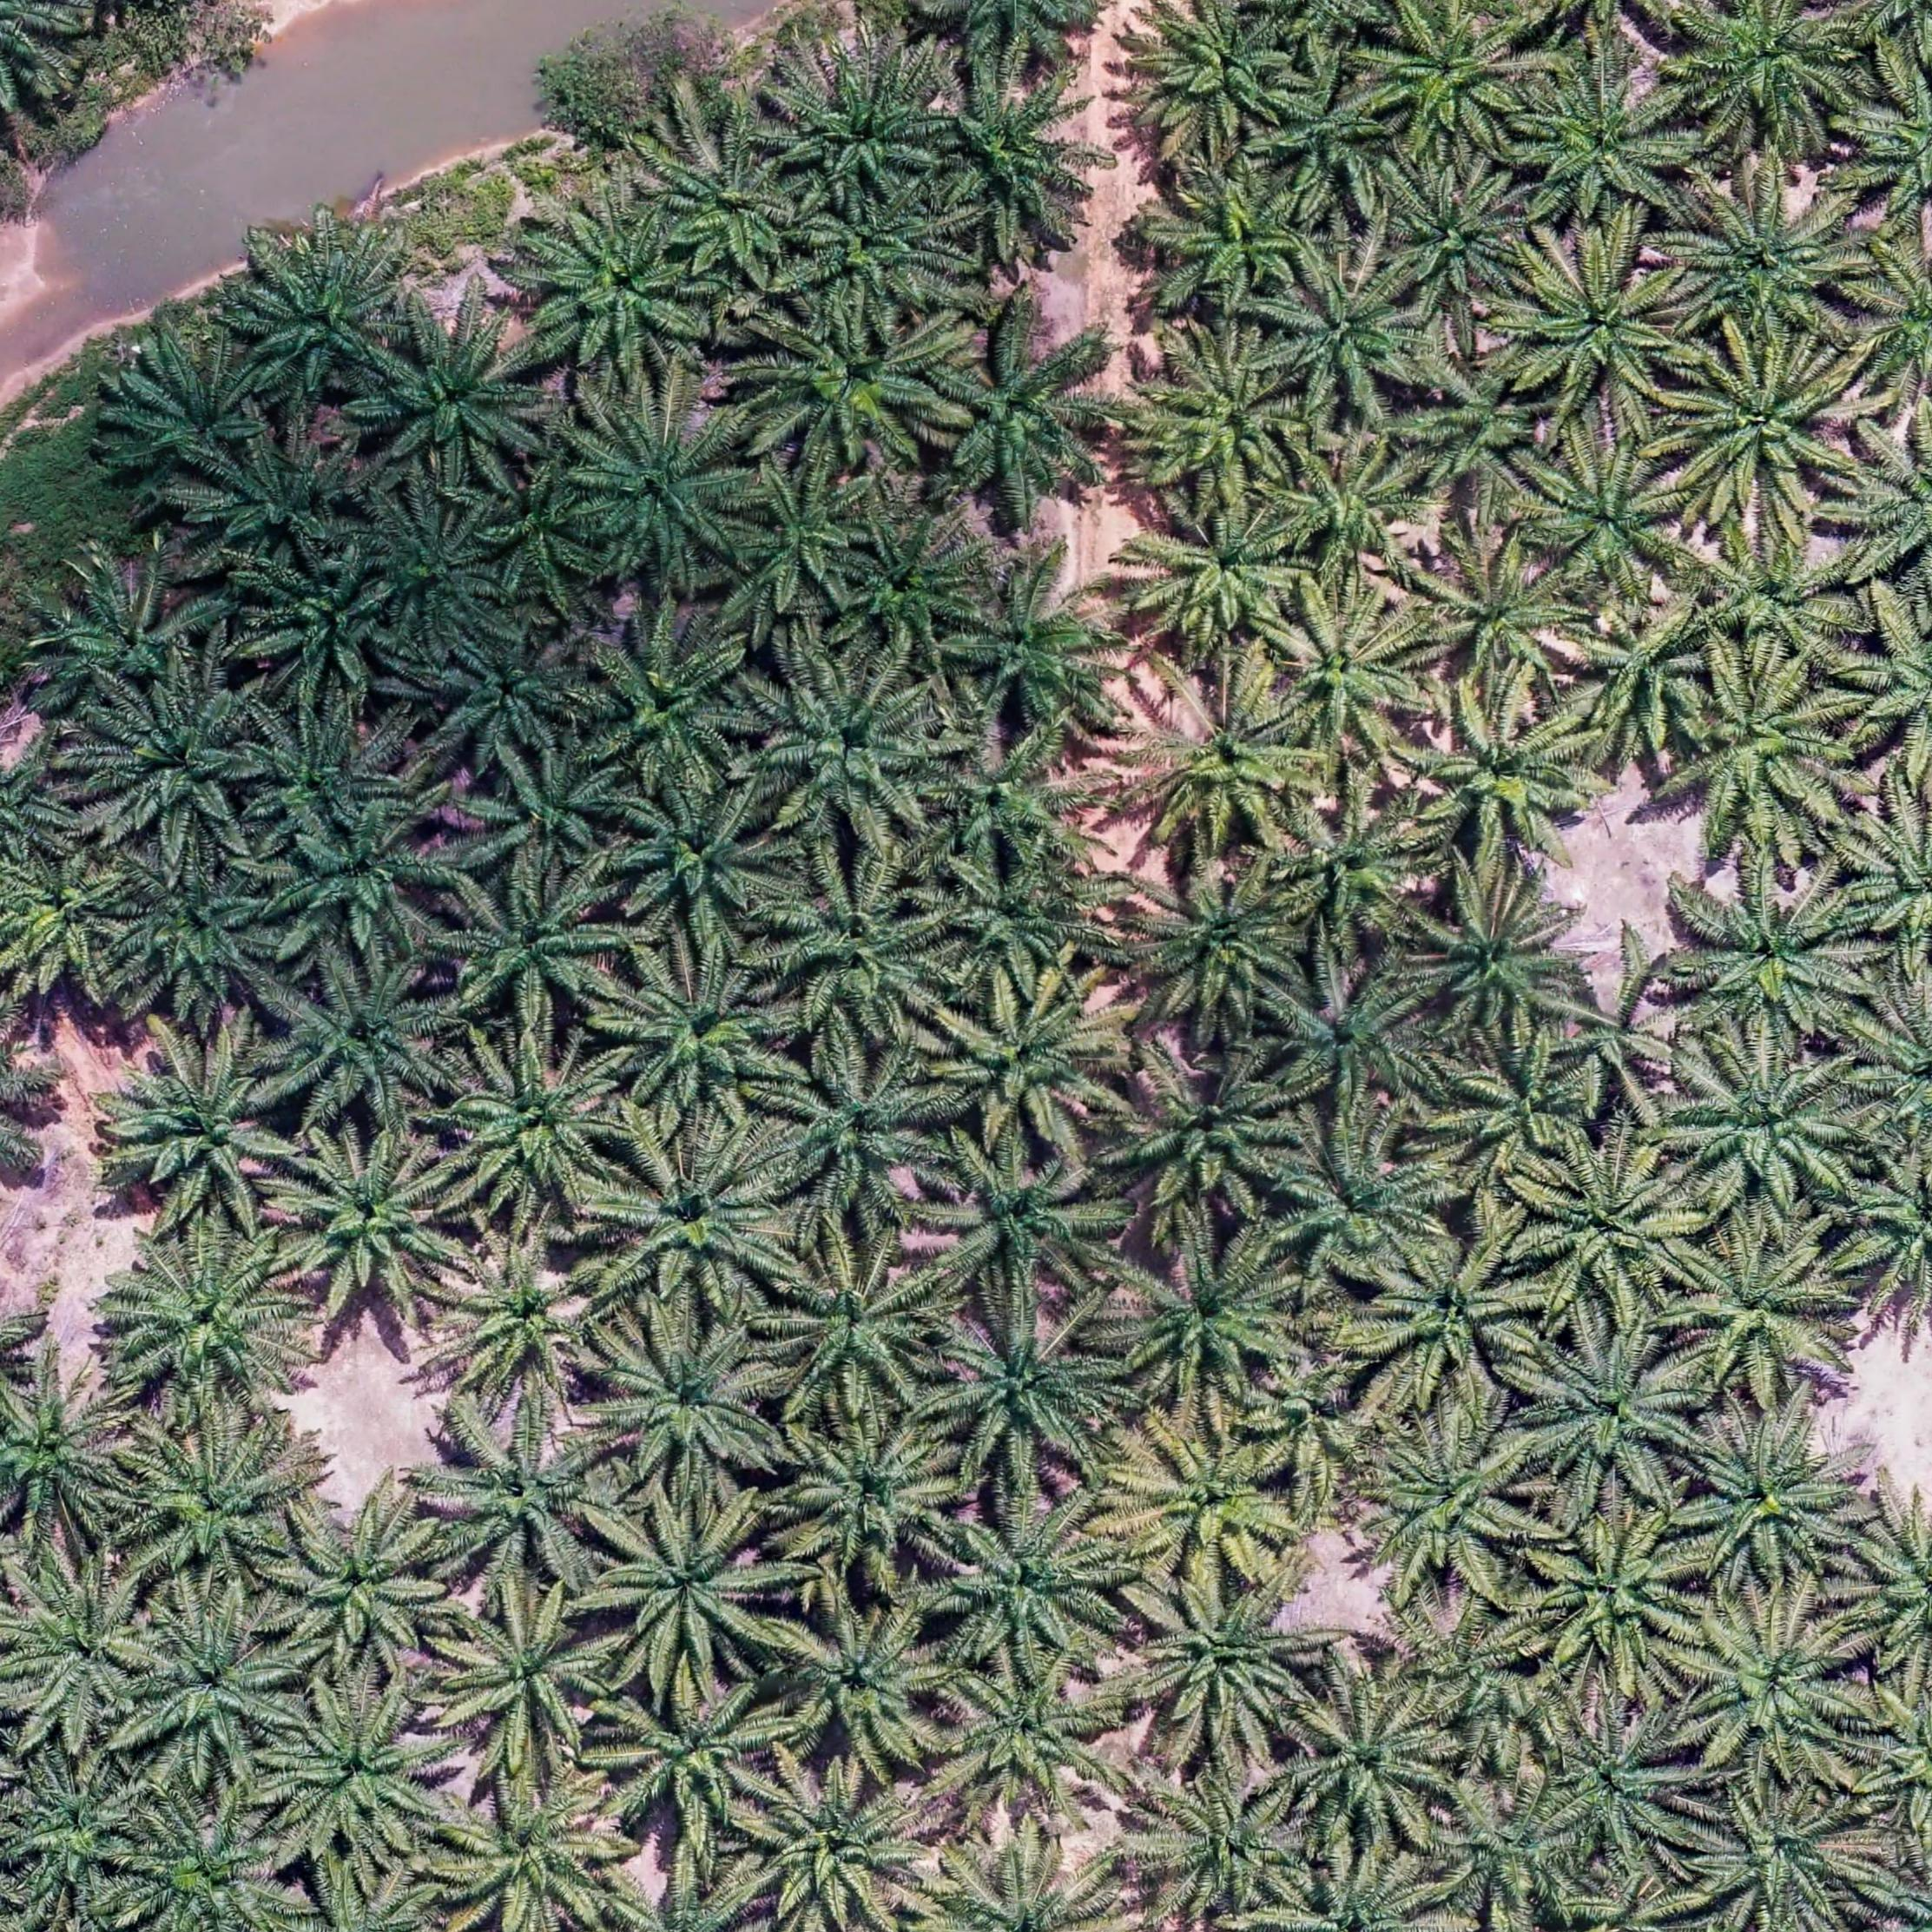palmtree: (918, 311, 1136, 522), (916, 1118, 1129, 1311), (1108, 662, 1320, 855), (582, 1490, 789, 1686), (1093, 1039, 1304, 1231), (1661, 329, 1868, 524), (920, 58, 1122, 255), (99, 1024, 303, 1219), (1097, 1219, 1306, 1408), (1113, 1559, 1323, 1746), (927, 1293, 1132, 1483), (591, 1122, 796, 1311), (925, 964, 1136, 1148), (267, 1123, 467, 1315), (1396, 681, 1601, 867), (568, 605, 763, 800), (741, 301, 952, 479), (948, 548, 1143, 740), (586, 1307, 784, 1495), (1352, 1217, 1550, 1405), (1665, 175, 1872, 354), (759, 1226, 954, 1414), (741, 655, 941, 837), (763, 1591, 961, 1773), (1341, 1414, 1539, 1596), (439, 1024, 632, 1210), (1513, 1313, 1706, 1499), (770, 1403, 966, 1585), (932, 1647, 1132, 1826), (740, 1753, 941, 1930), (1500, 235, 1695, 418), (936, 1490, 1132, 1670), (260, 952, 460, 1129), (566, 396, 755, 582), (1679, 1405, 1872, 1587), (352, 315, 548, 492), (1108, 858, 1307, 1031), (430, 1587, 621, 1767), (522, 202, 715, 380), (111, 1230, 310, 1403), (1116, 326, 1306, 506), (1668, 655, 1849, 844), (426, 1407, 619, 1583), (759, 1039, 954, 1214), (594, 1663, 786, 1840), (1667, 1035, 1865, 1203), (605, 947, 798, 1118), (432, 1762, 626, 1932), (1104, 1412, 1300, 1580), (433, 1226, 617, 1401), (1122, 1750, 1315, 1916), (1260, 957, 1456, 1120), (265, 1690, 449, 1863), (228, 230, 412, 403), (1405, 872, 1592, 1042), (1120, 487, 1307, 655), (1263, 580, 1435, 763), (1683, 1598, 1865, 1767), (1518, 1136, 1700, 1306), (1511, 62, 1697, 228), (1683, 872, 1870, 1037), (264, 796, 456, 955), (1401, 534, 1591, 695), (1283, 1668, 1460, 1840), (1667, 1223, 1845, 1392), (437, 870, 633, 1024), (1522, 430, 1693, 603), (1276, 1136, 1460, 1297), (773, 851, 939, 1028), (1522, 1507, 1706, 1667), (610, 775, 796, 932), (1688, 1776, 1877, 1930), (271, 1500, 446, 1667), (119, 1421, 297, 1583), (106, 345, 292, 501), (237, 545, 412, 709), (1260, 260, 1431, 426), (639, 115, 816, 276), (416, 612, 596, 770), (1118, 0, 1302, 154), (129, 1603, 301, 1767), (1267, 786, 1440, 947), (110, 862, 287, 1017), (1154, 157, 1329, 313), (1690, 513, 1867, 667), (92, 694, 262, 851), (1674, 0, 1867, 138), (1398, 349, 1557, 515), (9, 1555, 165, 1725), (1362, 9, 1537, 159), (46, 564, 212, 720), (1534, 1707, 1702, 1861), (913, 727, 1097, 867), (1375, 157, 1539, 313), (0, 1759, 147, 1932), (755, 53, 932, 195), (931, 851, 1106, 993), (722, 462, 879, 617), (1557, 598, 1716, 752), (1384, 1603, 1546, 1753), (237, 704, 400, 853), (1261, 430, 1426, 573), (464, 743, 633, 881), (195, 437, 373, 568), (0, 1364, 136, 1536), (1440, 1030, 1596, 1177), (356, 495, 510, 642), (826, 513, 978, 660), (124, 1803, 294, 1932), (1536, 975, 1688, 1118), (1251, 58, 1394, 200), (782, 191, 943, 317), (2, 865, 134, 1000), (1445, 1794, 1578, 1928), (478, 474, 605, 596)
